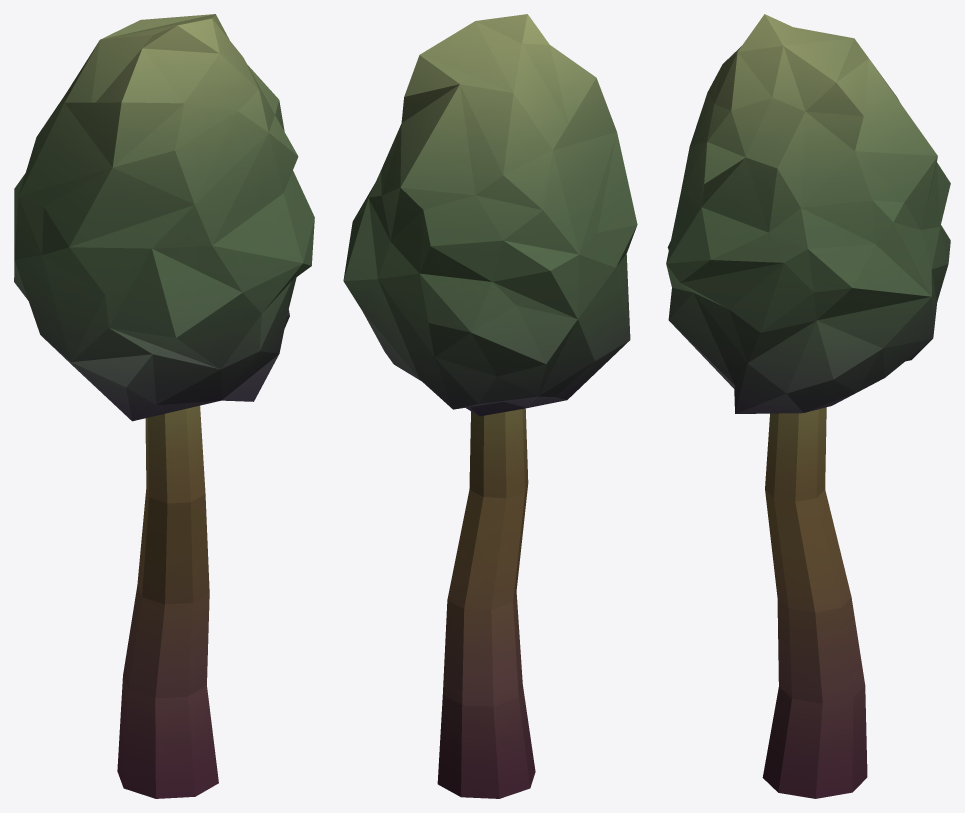
The model's file is Tree_02.fbx.
3 renders of one model, left to right at view 1: azimuth 30°, elevation 25°; view 2: azimuth 150°, elevation 25°; view 3: azimuth 270°, elevation 25°, orthographic. The views are drawn at different scales.
Parts seen in each view (by area): view 1: treetop3; view 2: treetop3; view 3: treetop3.
Boxes of the visible parts, bbox=[...] form: treetop3: bbox=[14, 14, 314, 798]; treetop3: bbox=[343, 14, 637, 798]; treetop3: bbox=[666, 14, 950, 798].
Size of the model in its own units: 198 by 589 by 201.
